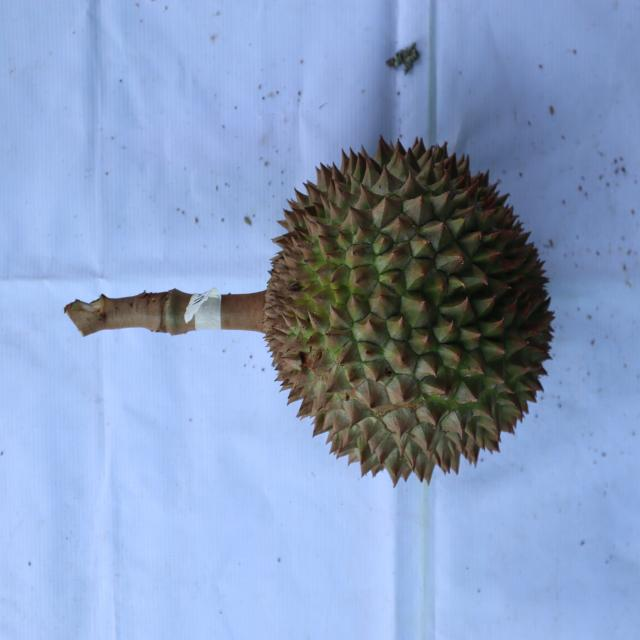mature: (262, 131, 558, 491)
